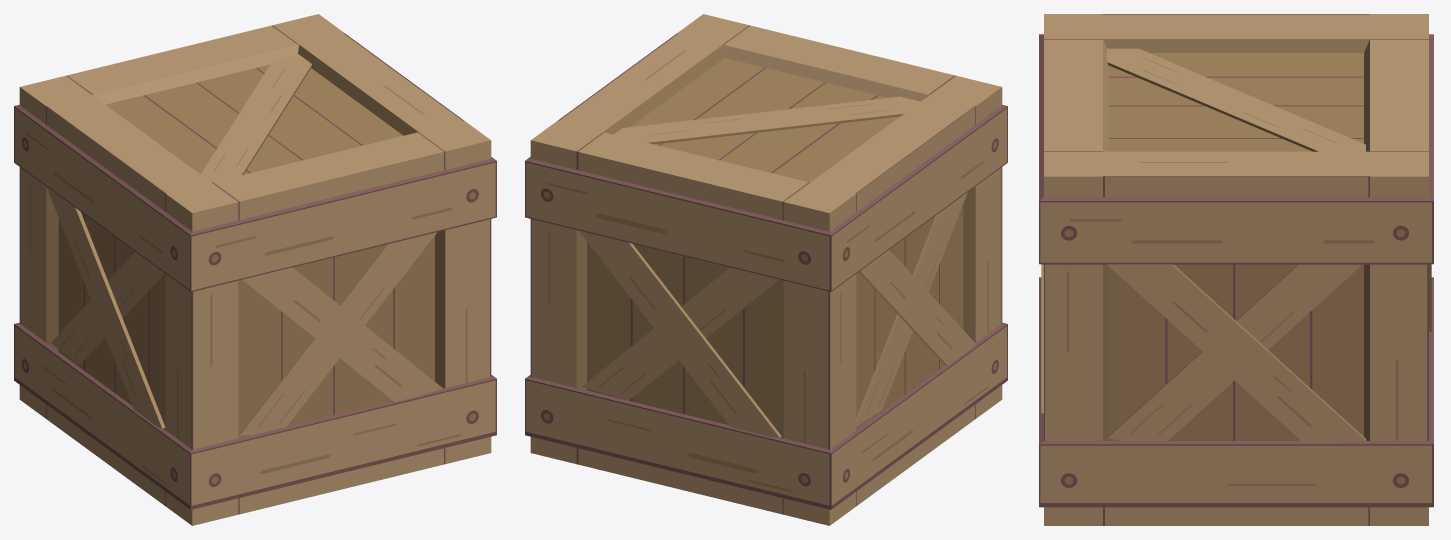
Rendered from Adventure_Catch_Stage_1_SM.fbx.
The picture shows the model from 3 angles, left to right: view 1: azimuth 30°, elevation 25°; view 2: azimuth 150°, elevation 25°; view 3: azimuth 270°, elevation 25°; orthographic projection. The views are drawn at different scales.
Visible parts, largest first — view 1: Adventure_Catch_Stage_1; view 2: Adventure_Catch_Stage_1; view 3: Adventure_Catch_Stage_1.
Part boxes in pixels (x1,y1,x2,y2): Adventure_Catch_Stage_1: (14, 14, 496, 525); Adventure_Catch_Stage_1: (525, 14, 1007, 525); Adventure_Catch_Stage_1: (1039, 14, 1433, 525).
Size of the model in its own units: 87.27 by 84.34 by 87.27.
